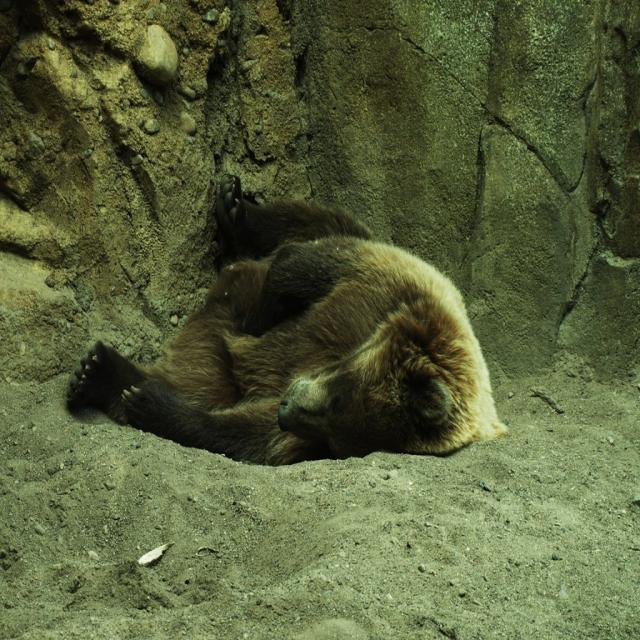Cheetahs: (64, 172, 508, 456)
